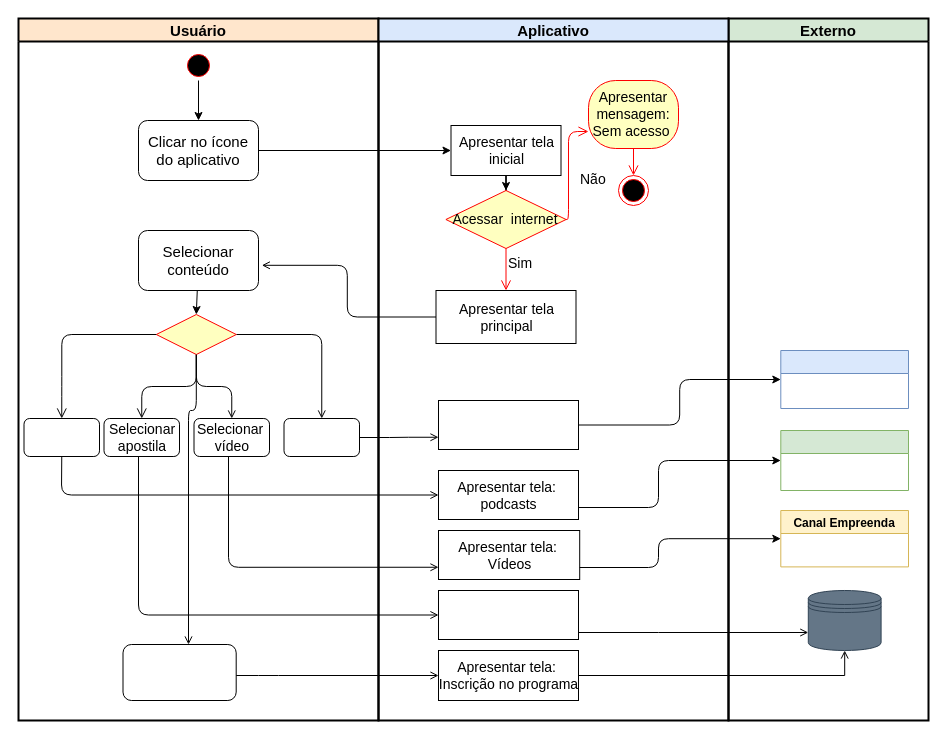
Some shapes in this 946 by 738 pixel diagram are drawn without their labels. The shapes that lost their labels are listed below. From the top down, each one's centre as x and y in pixels, then its label:
the point at 844,379: Site Empreenda
the point at 61,437: Selecionar podcast
the point at 321,437: Selecionar notícia
the point at 508,425: Apresentar tela: Matéria jornalistica
the point at 844,460: Empreenda Agrocast
the point at 508,615: Apresentar tela: Apostilas
the point at 844,620: Banco de dados
the point at 179,672: Cadastrar interesse no programa
